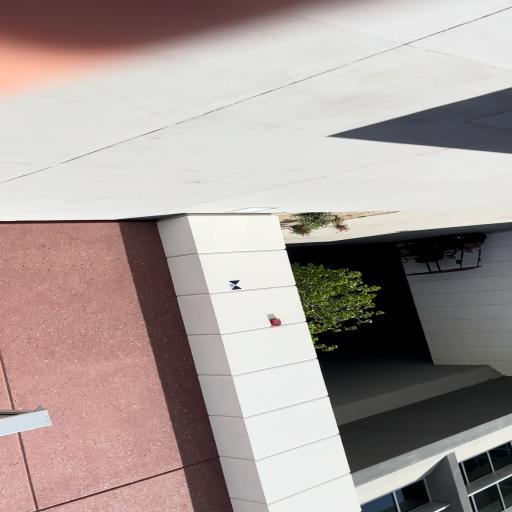target6: (228, 280, 242, 290)
